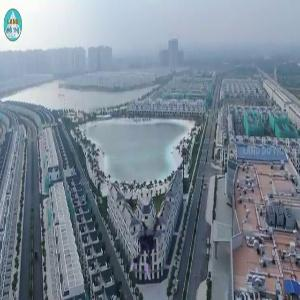drone: (120, 213, 190, 283)
